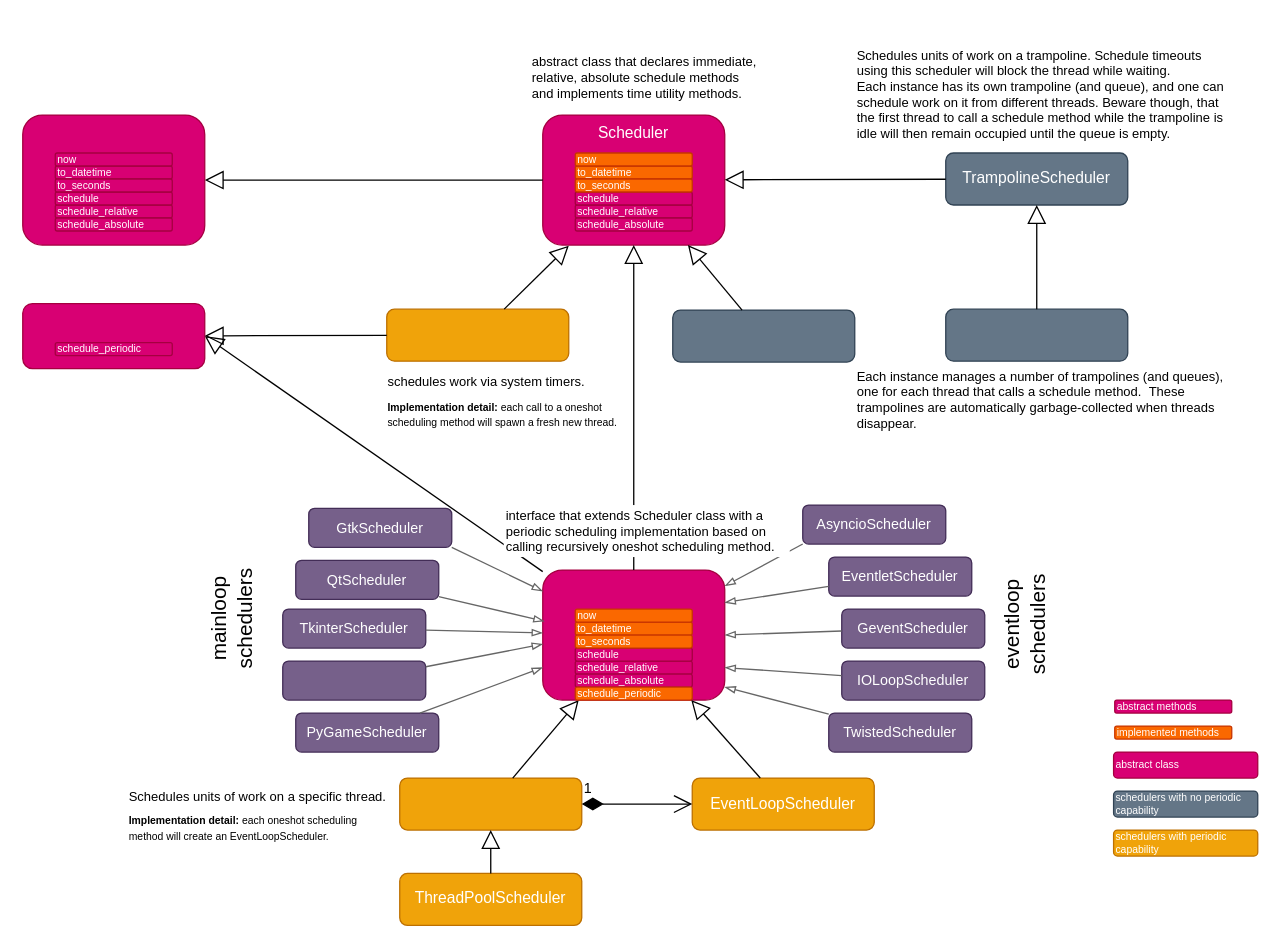
This 1281x949 diagram has some shape labels left out. Each missing label, with the box of its shape:
CurrentThreadScheduler: (944, 308, 1128, 361)
ImmediateScheduler: (671, 309, 855, 362)
NewThreadScheduler: (398, 777, 582, 830)
PeriodicScheduler: (541, 569, 725, 700)
PeriodicScheduler(typing): (21, 302, 205, 369)
Scheduler(typing): (21, 114, 205, 245)
TimeoutScheduler: (385, 308, 569, 361)
WxScheduler: (281, 660, 426, 700)
